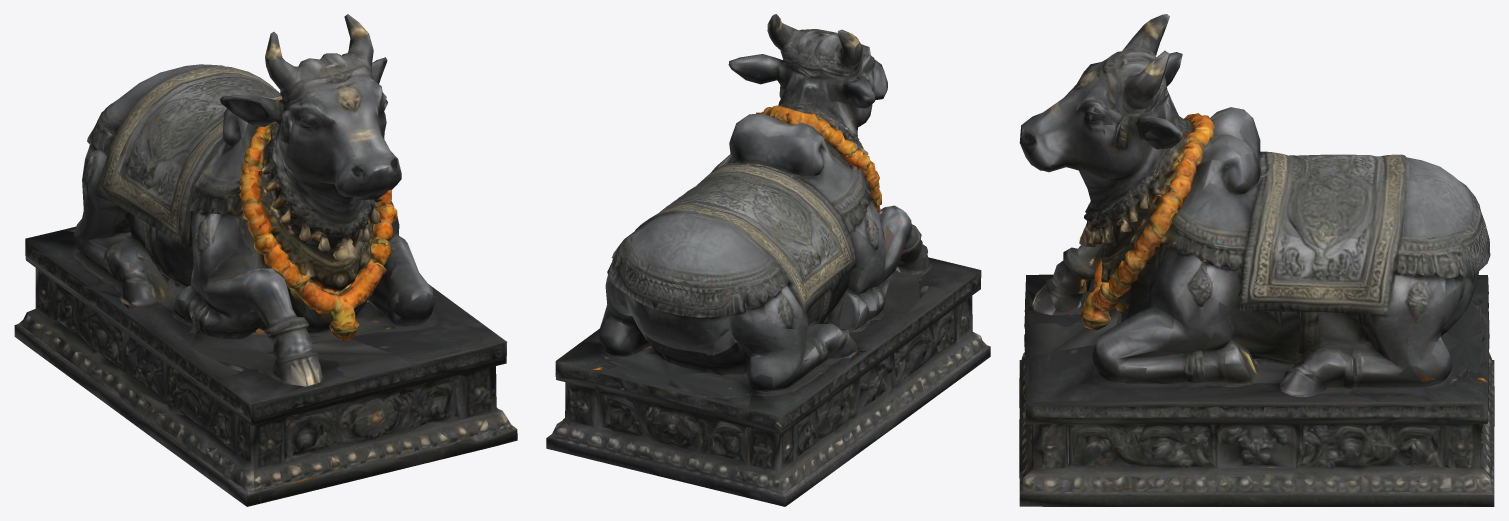
The model's file is nandi.glb.
The picture shows the model from 3 angles, left to right: view 1: azimuth 30°, elevation 25°; view 2: azimuth 150°, elevation 25°; view 3: azimuth 270°, elevation 25°; orthographic projection. The views are drawn at different scales.
Visible parts, largest first — view 1: nandi; view 2: nandi; view 3: nandi.
Boxes of the visible parts, x1,y1,x2,y2 form: nandi: (14, 14, 517, 506); nandi: (546, 14, 990, 506); nandi: (1019, 14, 1494, 506).
Bounding box in the file's own units: 0.5994 × 0.8423 × 0.8908.
1 material, 1 textured.
